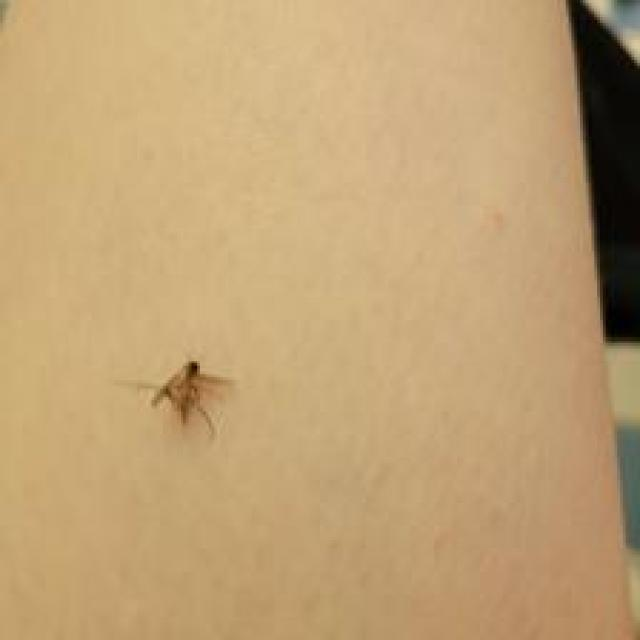Culex: (113, 357, 236, 440)
